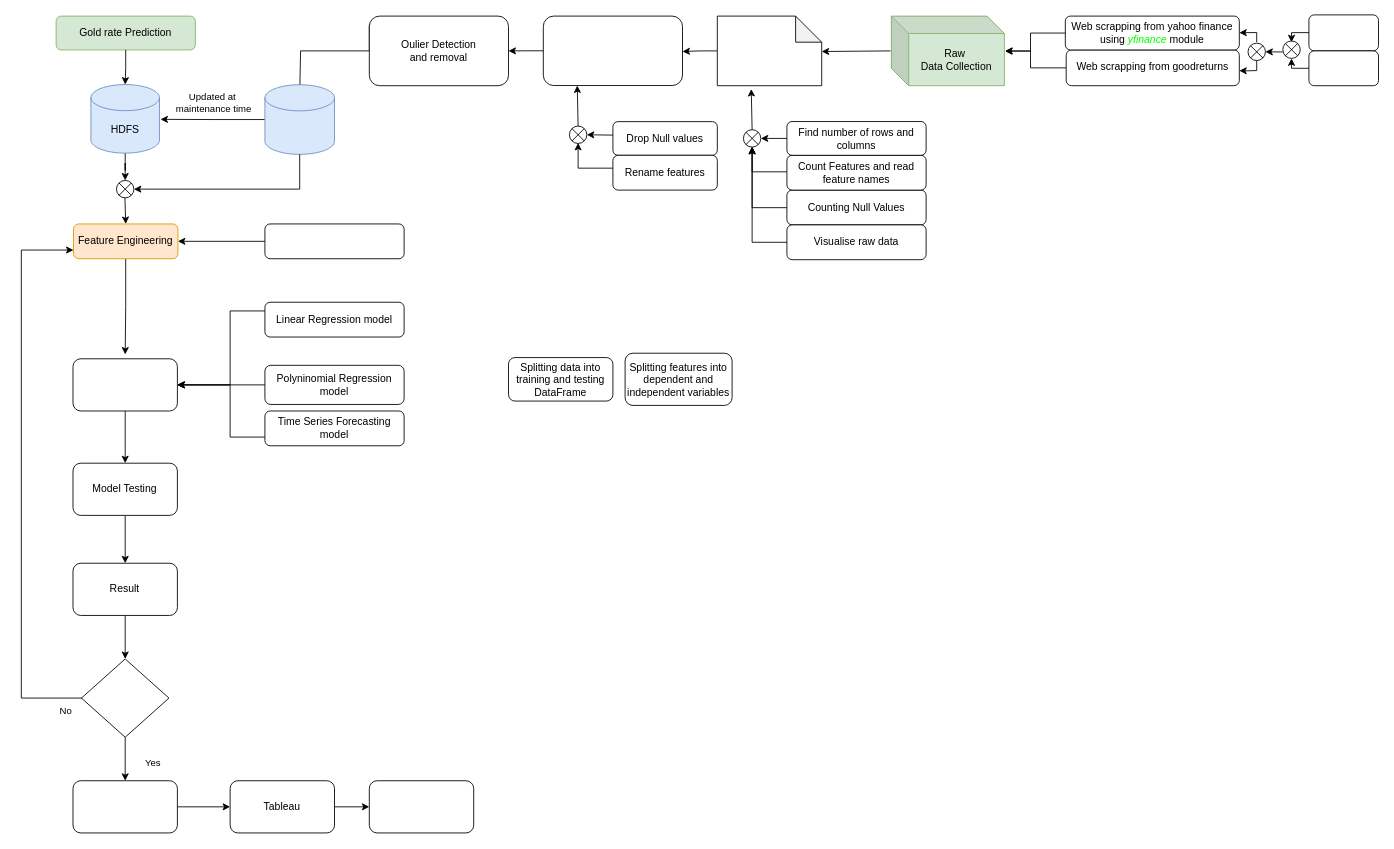
This 1394x849 diagram has some shape labels left out. Each missing label, with the box of its shape:
Buffer: (264, 84, 335, 154)
Corn job: (1308, 14, 1379, 51)
Dashboard: (368, 780, 474, 833)
Data Cleaning: (542, 15, 683, 86)
Data Visualition: (72, 780, 177, 833)
Exploratory Data Analysis: (716, 15, 822, 86)
Extracting Features based on Coreelation: (264, 223, 404, 259)
Manual Update: (1308, 50, 1379, 86)
Model Building: (72, 358, 177, 411)
Result above 95%: (81, 658, 169, 737)
